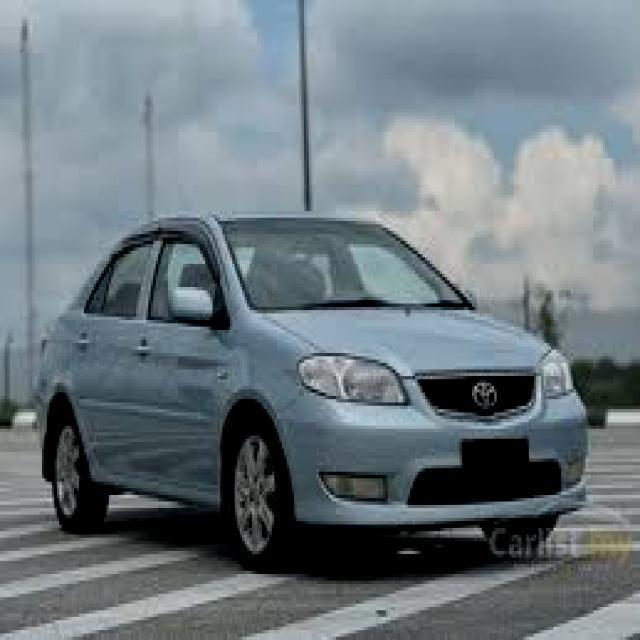ToyotaVios: (33, 211, 590, 570)
